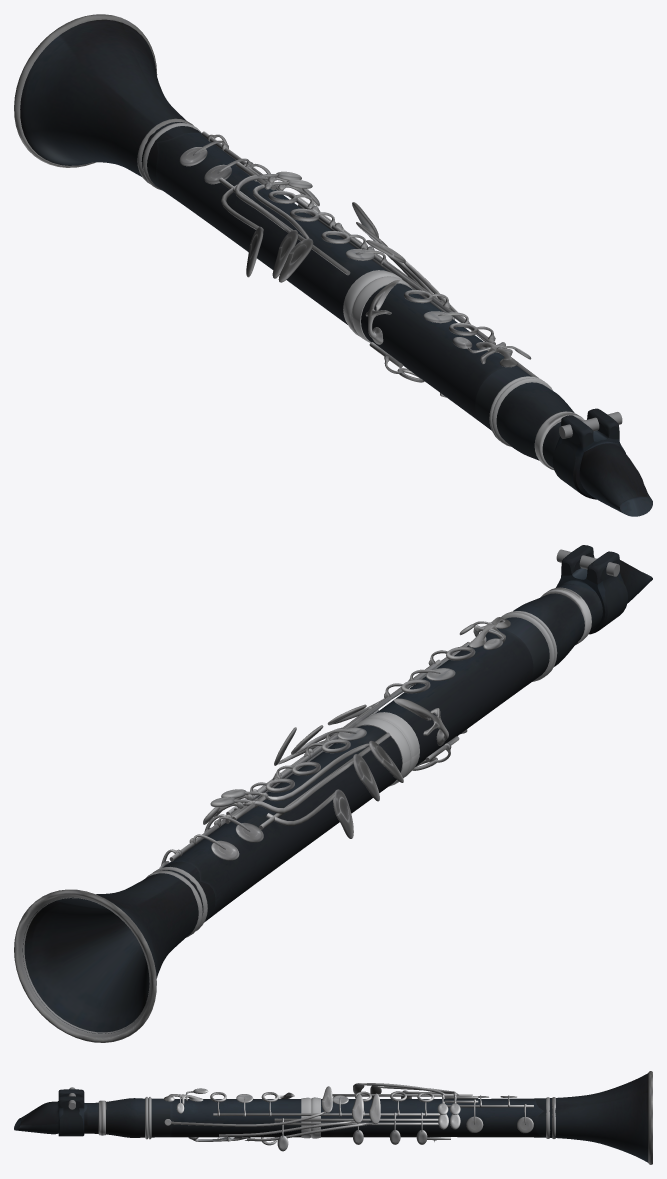
The model's file is Clarinet.fbx.
3 renders of one model, top to bottom at view 1: azimuth 30°, elevation 25°; view 2: azimuth 150°, elevation 25°; view 3: azimuth 270°, elevation 25°, orthographic. The views are drawn at different scales.
Parts seen in each view (by area): view 1: Clarinet; view 2: Clarinet; view 3: Clarinet.
Boxes of the visible parts, x1,y1,x2,y2 form: Clarinet: (14, 14, 652, 516); Clarinet: (14, 545, 652, 1042); Clarinet: (14, 1071, 652, 1164).
Bounding box in the file's own units: 51.04 × 51.14 × 347.
Materials: 1 (1 with a texture image).
